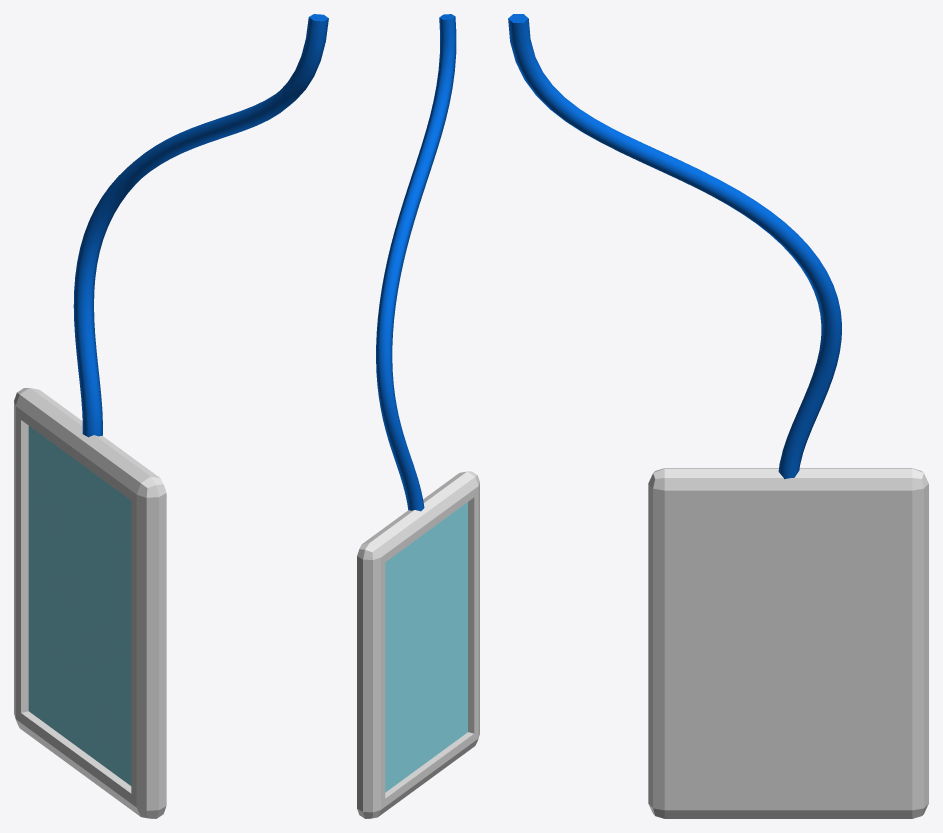
3 renders of one model, left to right at view 1: azimuth 30°, elevation 25°; view 2: azimuth 150°, elevation 25°; view 3: azimuth 270°, elevation 25°, orthographic. The views are drawn at different scales.
Parts seen in each view (by area): view 1: Cube; view 2: Cube; view 3: Cube.
Part boxes in pixels (x1,y1,x2,y2): Cube: [14, 14, 328, 818]; Cube: [357, 14, 479, 818]; Cube: [508, 14, 928, 818].
Bounding box in the file's own units: 30.19 × 203 × 91.26.
